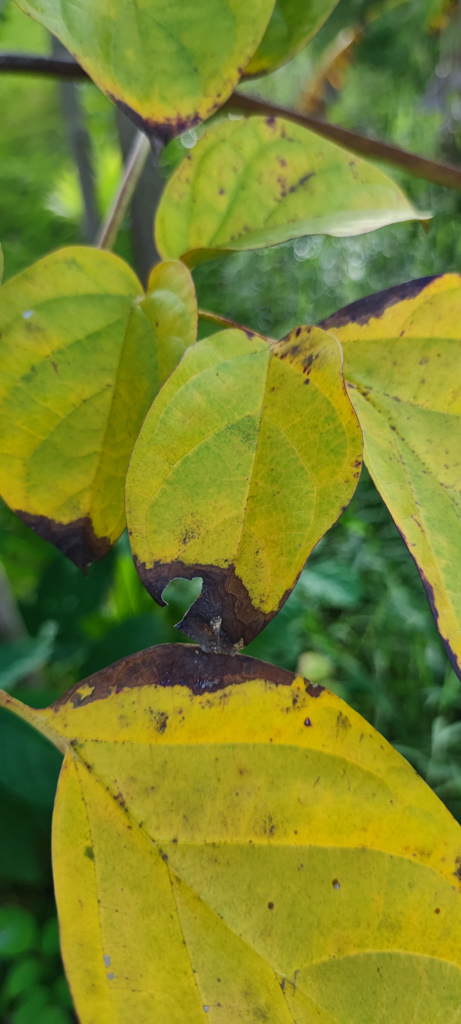Pepper yellow leaf: (15, 648, 455, 1019), (114, 314, 347, 640), (4, 241, 197, 593), (325, 259, 457, 649), (148, 110, 435, 288), (16, 8, 277, 143)
